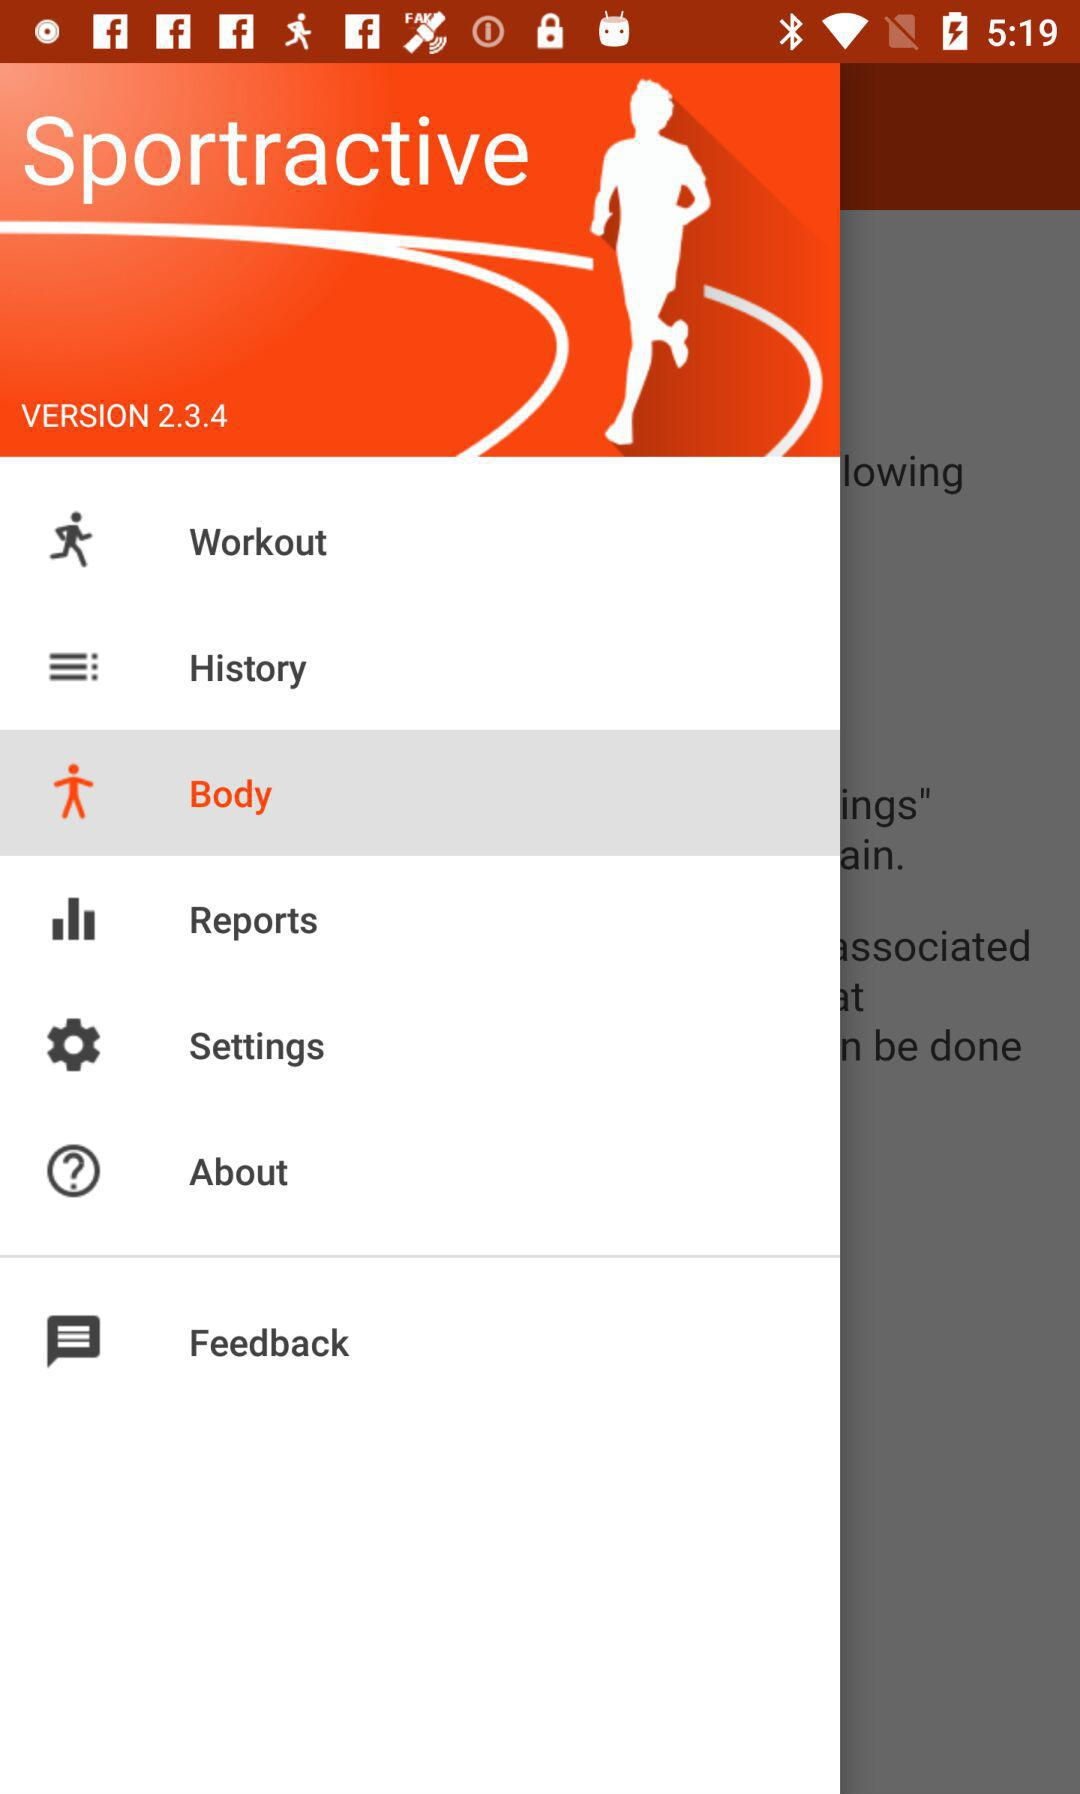Drawer: (1, 64, 840, 1794)
Icon: (46, 1313, 102, 1369), (47, 1143, 102, 1199), (47, 1017, 102, 1073), (53, 896, 97, 943), (47, 651, 101, 686)
Image: (1, 64, 842, 457), (49, 510, 95, 572), (53, 762, 97, 821)
Text: (23, 114, 530, 208), (20, 401, 231, 431), (191, 1325, 348, 1360), (190, 1030, 325, 1067), (190, 905, 319, 943), (188, 525, 331, 560), (190, 652, 309, 691), (188, 1153, 290, 1189), (190, 777, 275, 818)
UpperTaskBar: (1, 1, 1080, 64)
